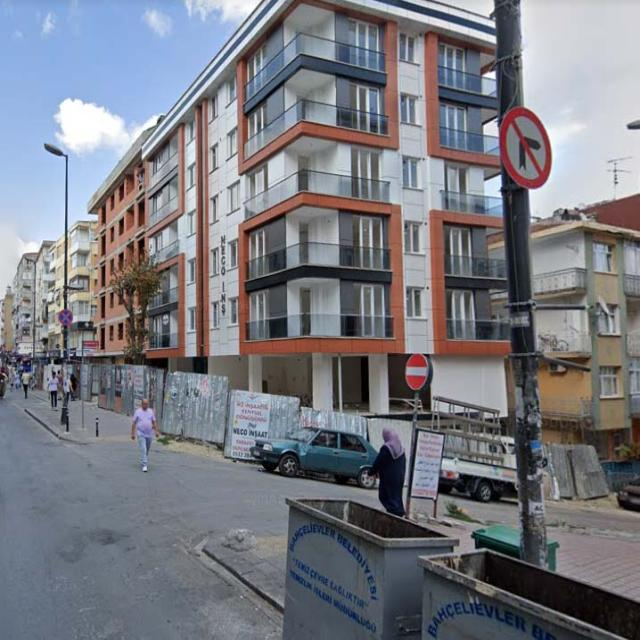girisyok: (406, 353, 428, 390)
sagadonulmez: (499, 107, 552, 189)
